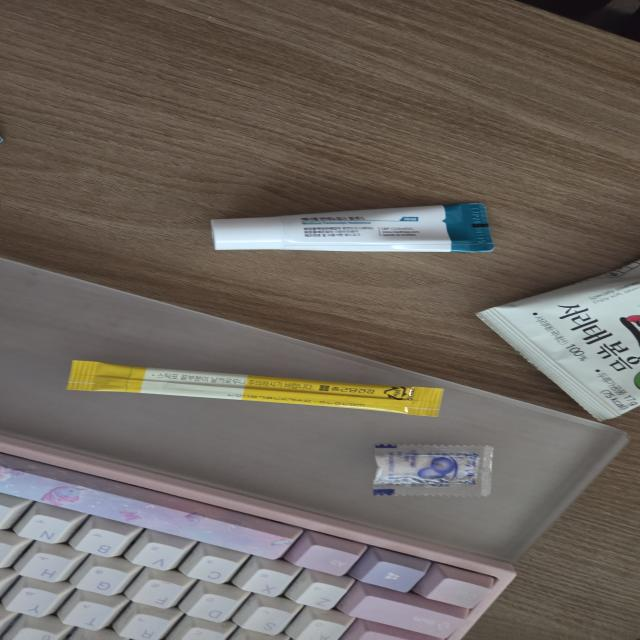lacto: (65, 359, 445, 418)
lib: (208, 200, 494, 262)
salt: (371, 442, 493, 498)
